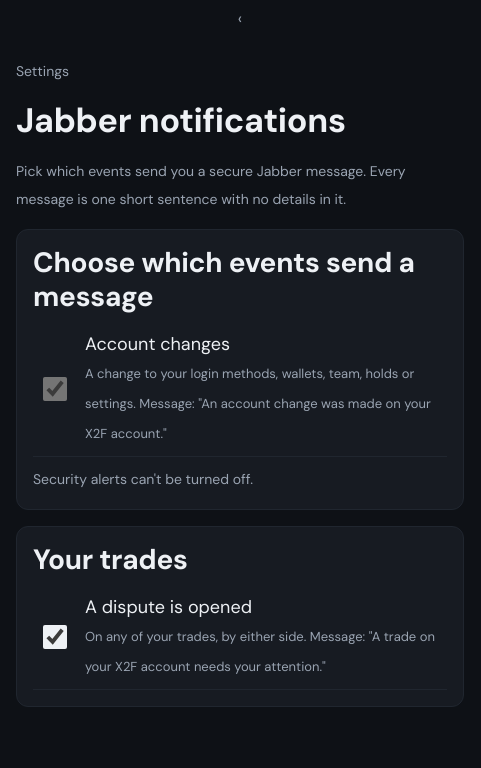
Test case: JabberEventsScreen › a refusal shows the shared words and the box keeps what the server has
The image size is (481, 768).
Click the checkbox labelled "A dispute is opened". click: x=55, y=637
box: left=43, top=625, right=67, bottom=649
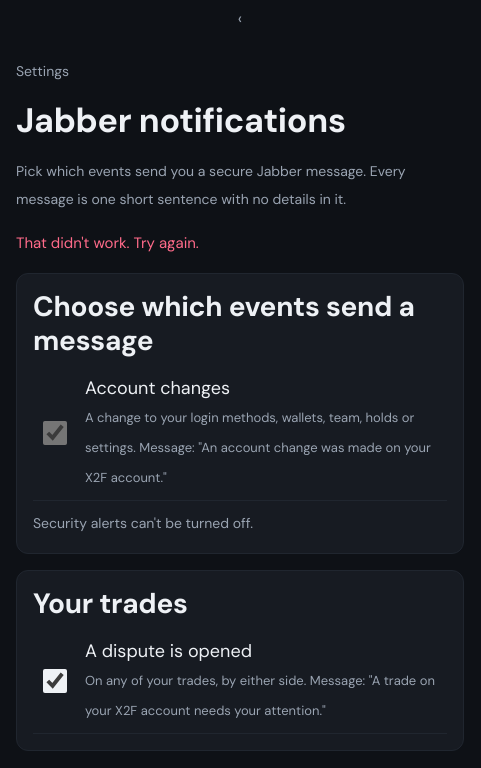
expect the message "That didn't work. Try again." is shown: met, box left=16, top=233, right=199, bottom=253
